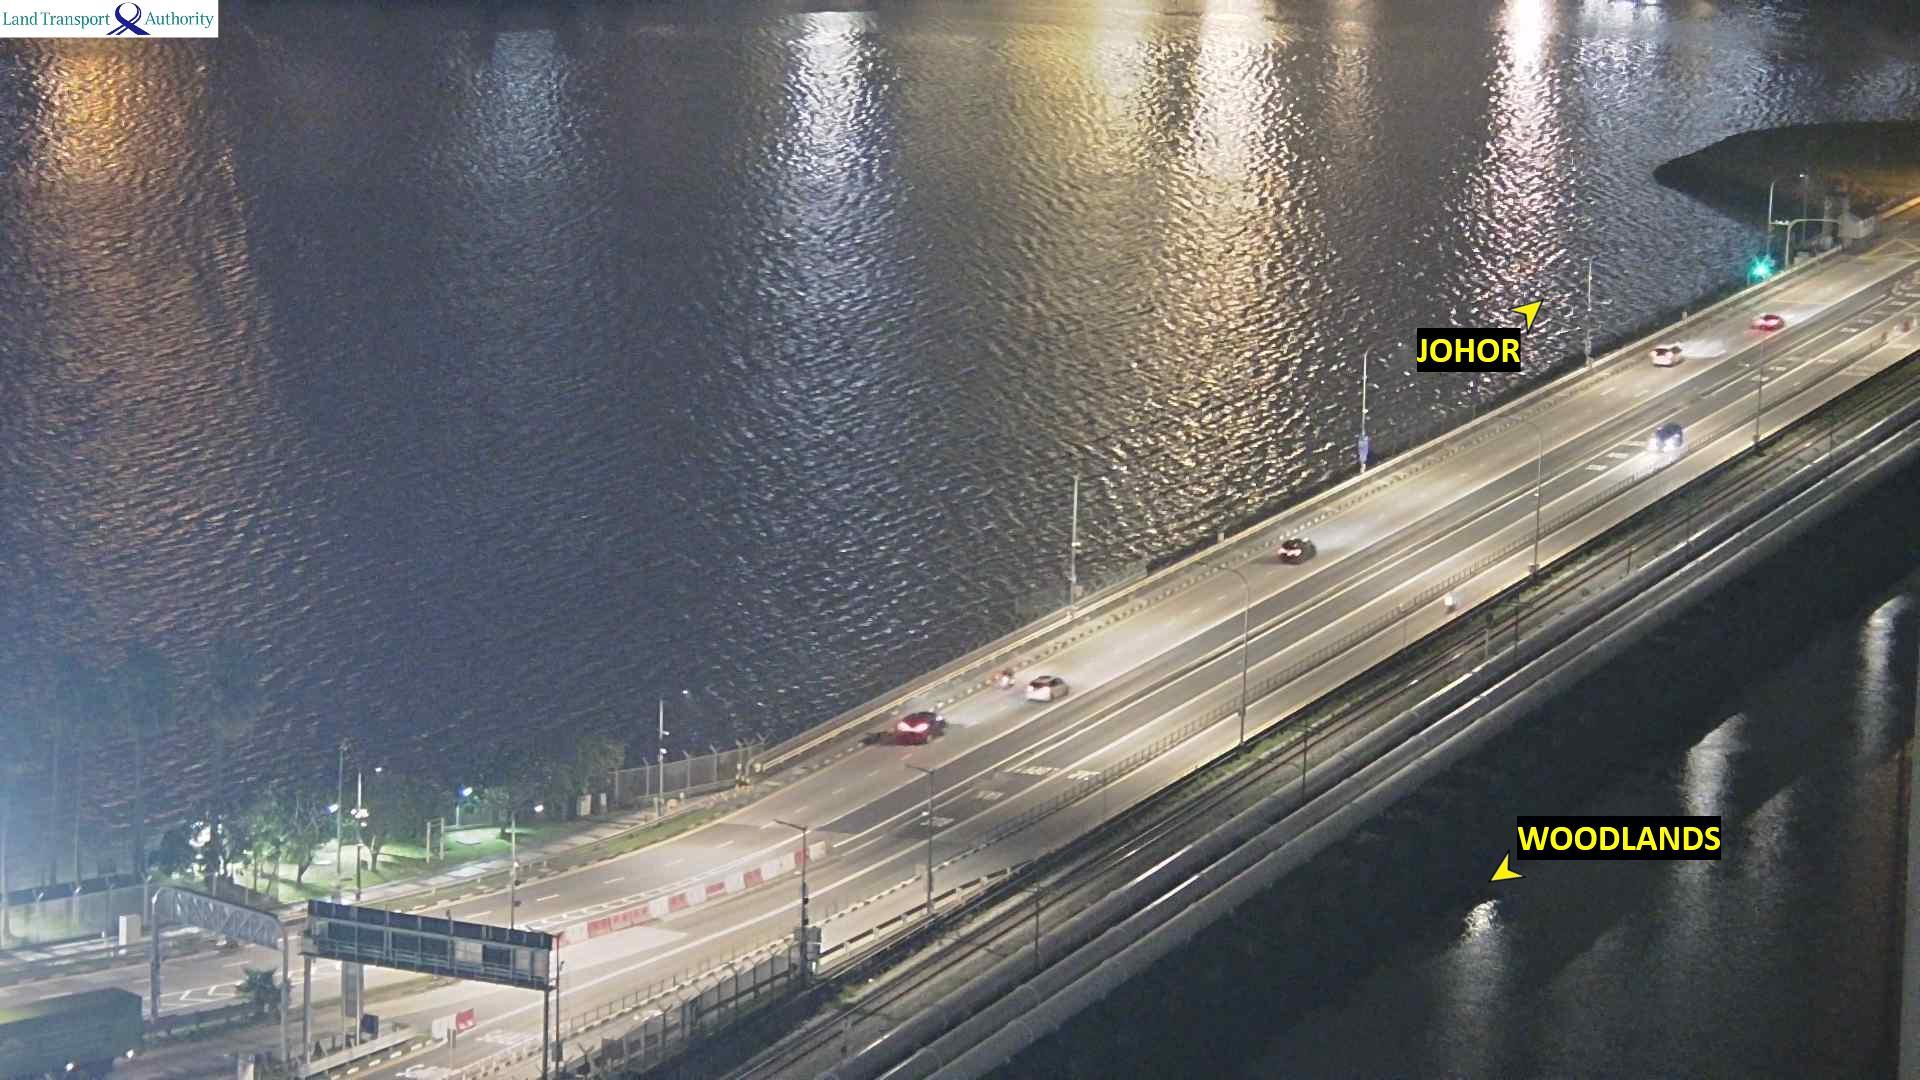vehicle-causeway-johor: (897, 711, 942, 740), (1279, 533, 1316, 563), (1025, 676, 1064, 699), (1652, 342, 1679, 367), (1758, 314, 1780, 328), (996, 666, 1007, 687)
vehicle-causeway-singapore: (0, 989, 137, 1080), (1652, 426, 1681, 452)
